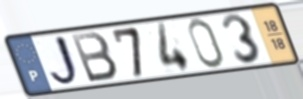0: (185, 16, 227, 71)
3: (222, 12, 263, 66)
4: (157, 20, 191, 74)
7: (110, 25, 146, 79)
B: (69, 30, 121, 85)
J: (48, 34, 85, 89)
